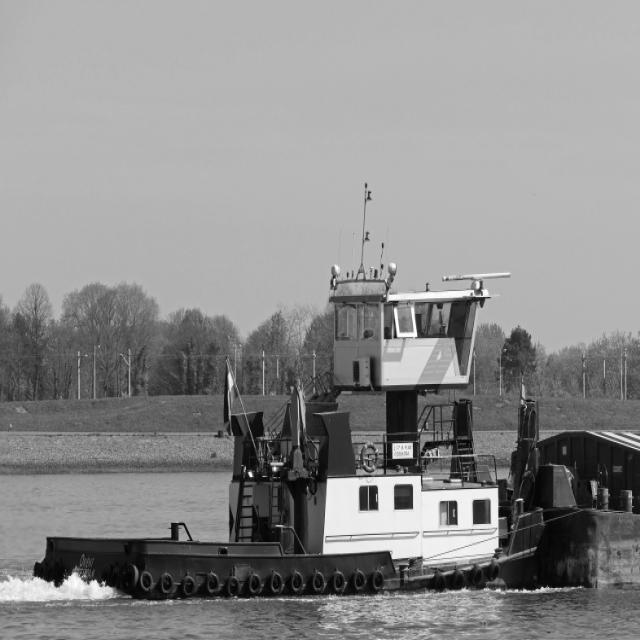tugboat: (32, 268, 564, 612)
